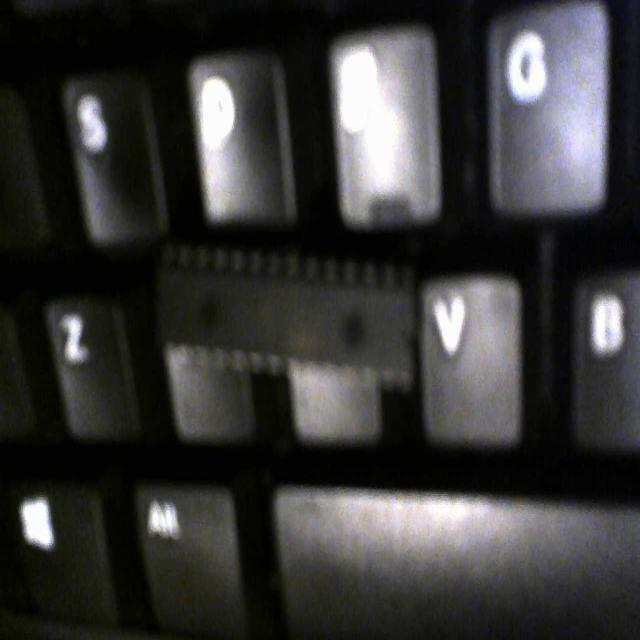atmega: (152, 224, 423, 394)
